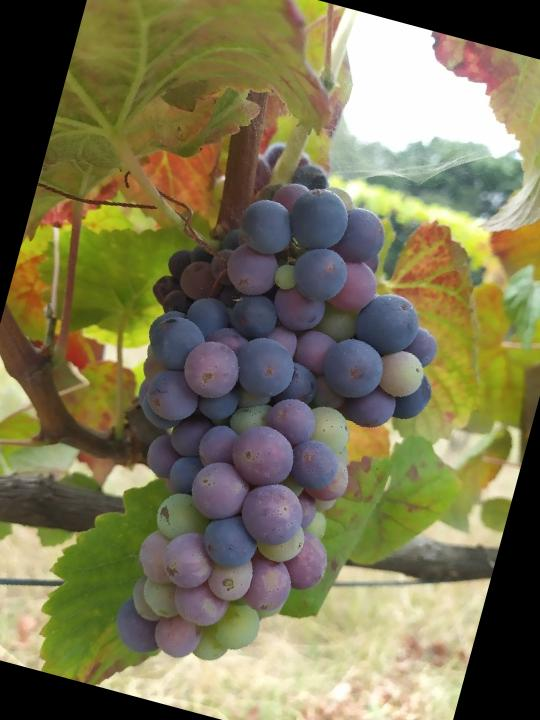grape: (57, 143, 481, 713)
